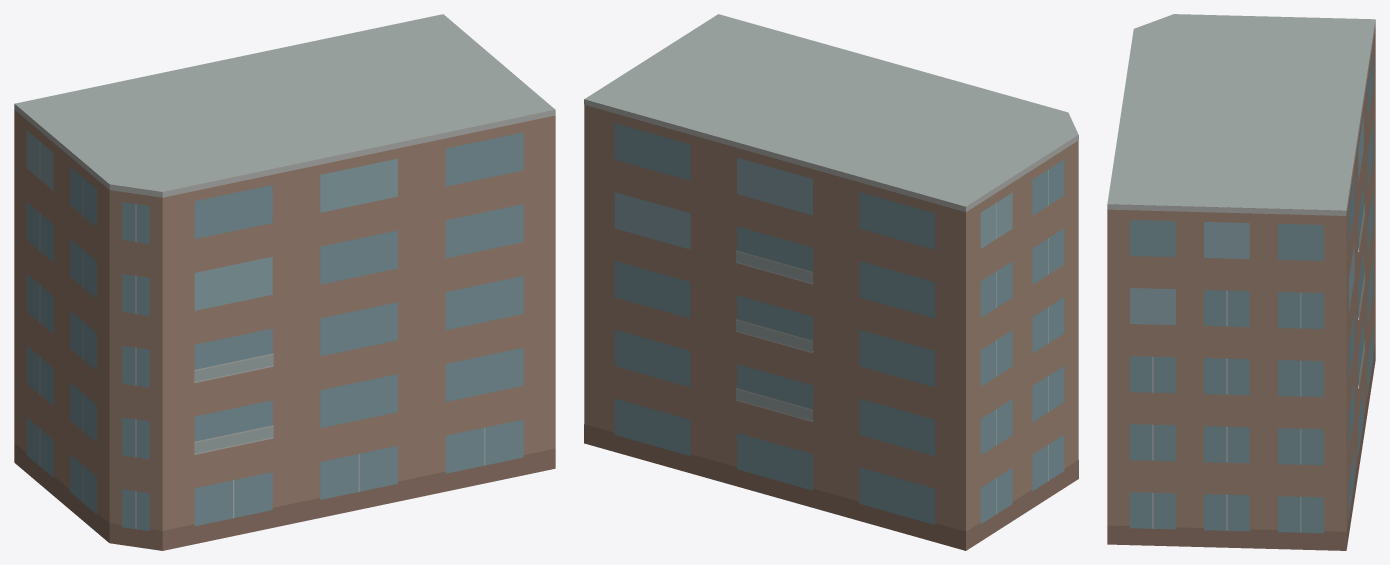
Rendered from survey-upis-32897655.glb.
The picture shows the model from 3 angles, left to right: view 1: azimuth 30°, elevation 25°; view 2: azimuth 150°, elevation 25°; view 3: azimuth 270°, elevation 25°; orthographic projection. The views are drawn at different scales.
Visible parts, largest first — view 1: survey-upis-32897655.tmp; view 2: survey-upis-32897655.tmp; view 3: survey-upis-32897655.tmp.
Boxes of the visible parts, <box> form: survey-upis-32897655.tmp: <box>14,14,555,550</box>; survey-upis-32897655.tmp: <box>584,14,1078,550</box>; survey-upis-32897655.tmp: <box>1107,14,1375,550</box>.
Size of the model in its own units: 18.9 by 15.25 by 10.91.
